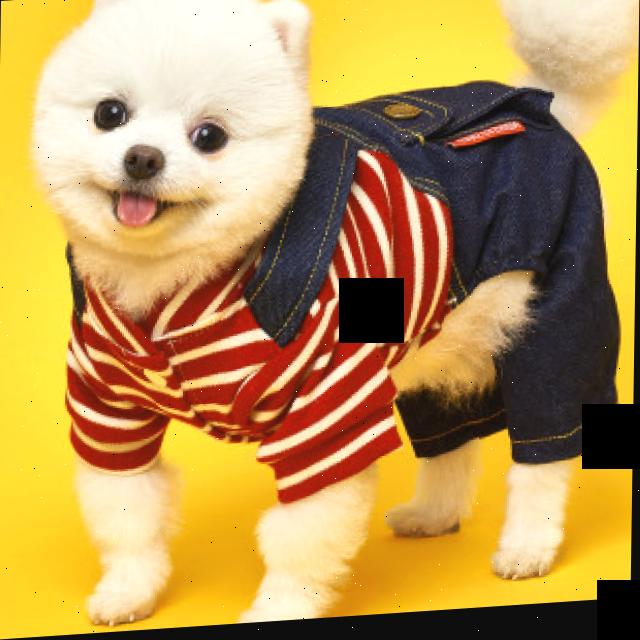cloth: (67, 88, 620, 506)
